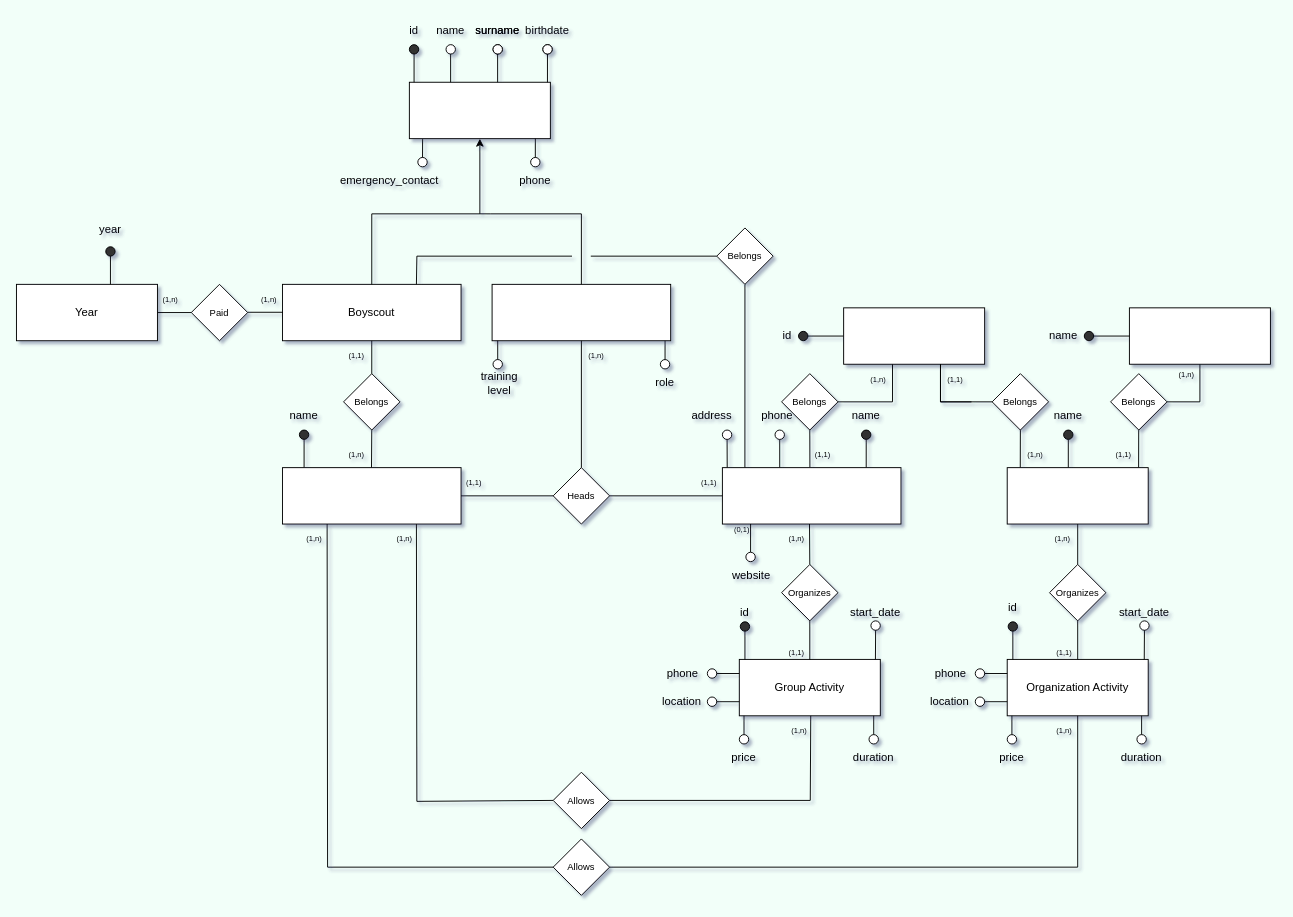
Some shapes in this 1293 by 917 pixel diagram are drawn without their labels. The centre of each missing label's shape, as x and y in pixels:
"Adult" belongs at point (581, 312).
"Category" belongs at point (371, 495).
"Group" belongs at point (811, 495).
"Nation" belongs at point (1199, 335).
"Organization" belongs at point (1077, 495).
"Person" belongs at point (479, 110).
"Zone" belongs at point (914, 335).
